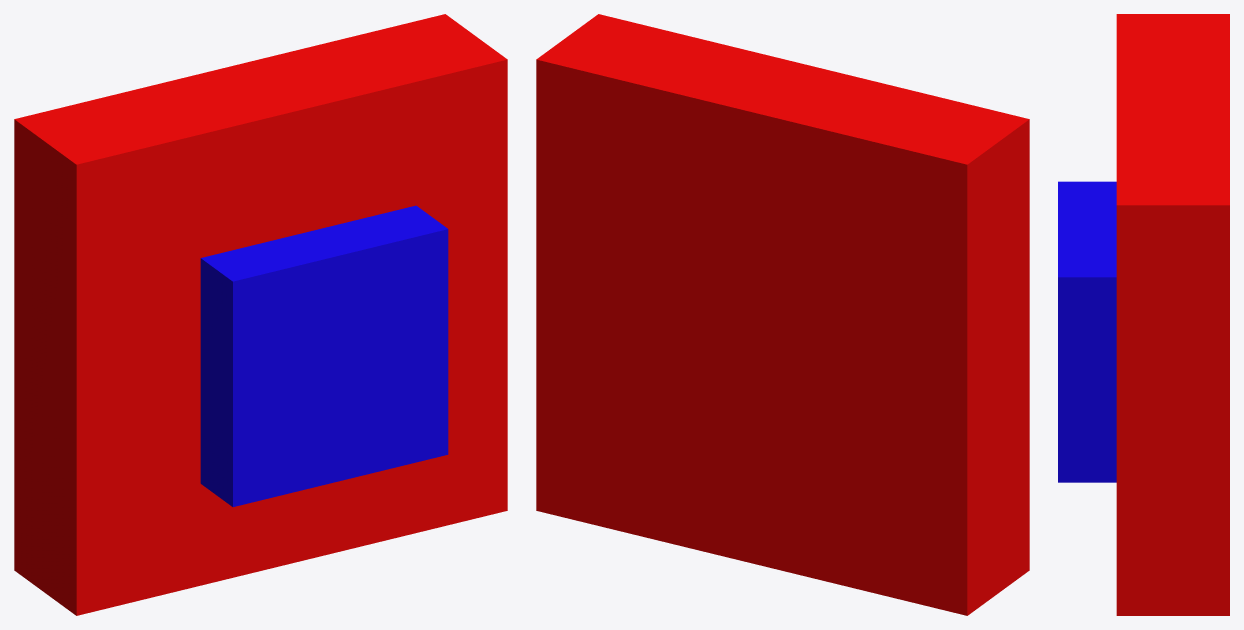
Rendered from Switch.FBX.
3 renders of one model, left to right at view 1: azimuth 30°, elevation 25°; view 2: azimuth 150°, elevation 25°; view 3: azimuth 270°, elevation 25°, orthographic. The views are drawn at different scales.
Visible parts, largest first — view 1: Box001, Box002; view 2: Box001; view 3: Box001, Box002.
Part boxes in pixels (x1,y1,x2,y2): Box001: [14, 14, 507, 615]; Box002: [200, 205, 448, 506]; Box001: [536, 14, 1029, 615]; Box001: [1116, 14, 1229, 615]; Box002: [1058, 181, 1116, 482].
Bounding box in the file's own units: 50 × 50 × 18.96.
